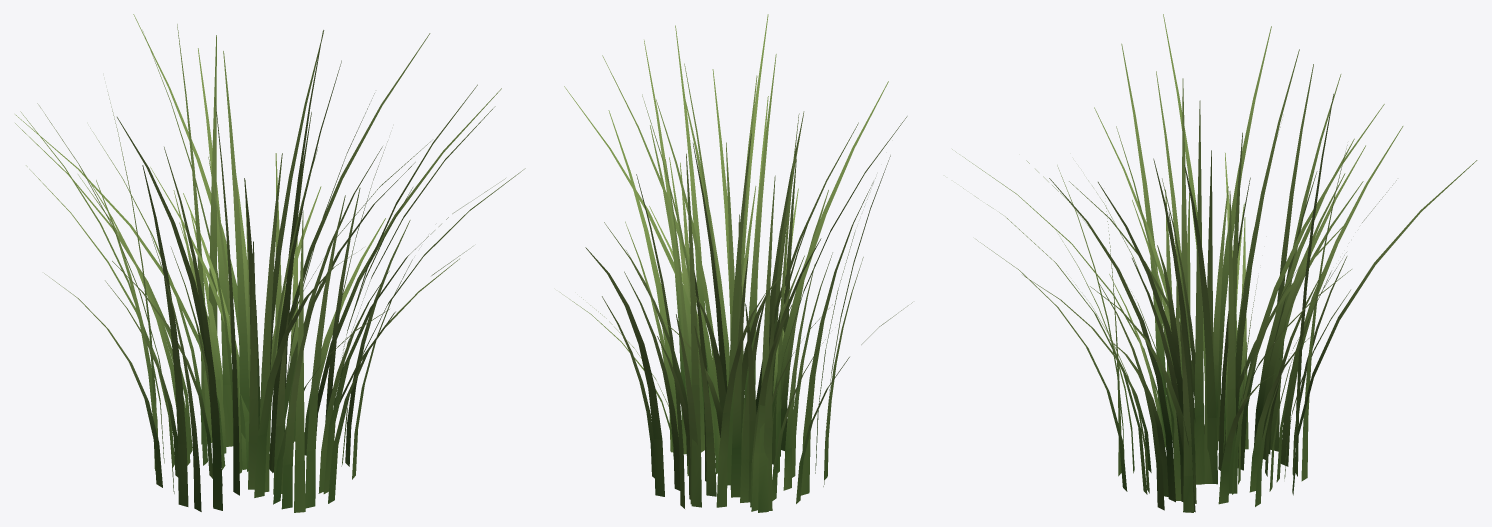
The model's file is PLN_Reeds.fbx.
The picture shows the model from 3 angles, left to right: view 1: azimuth 30°, elevation 25°; view 2: azimuth 150°, elevation 25°; view 3: azimuth 270°, elevation 25°; orthographic projection. The views are drawn at different scales.
Parts seen in each view (by area): view 1: PLN_Reeds; view 2: PLN_Reeds; view 3: PLN_Reeds.
Part boxes in pixels (<box>): PLN_Reeds: <box>15,14,525,512</box>; PLN_Reeds: <box>560,14,912,512</box>; PLN_Reeds: <box>952,14,1477,512</box>.
Size of the model in its own units: 1.44 by 1.42 by 1.7.
